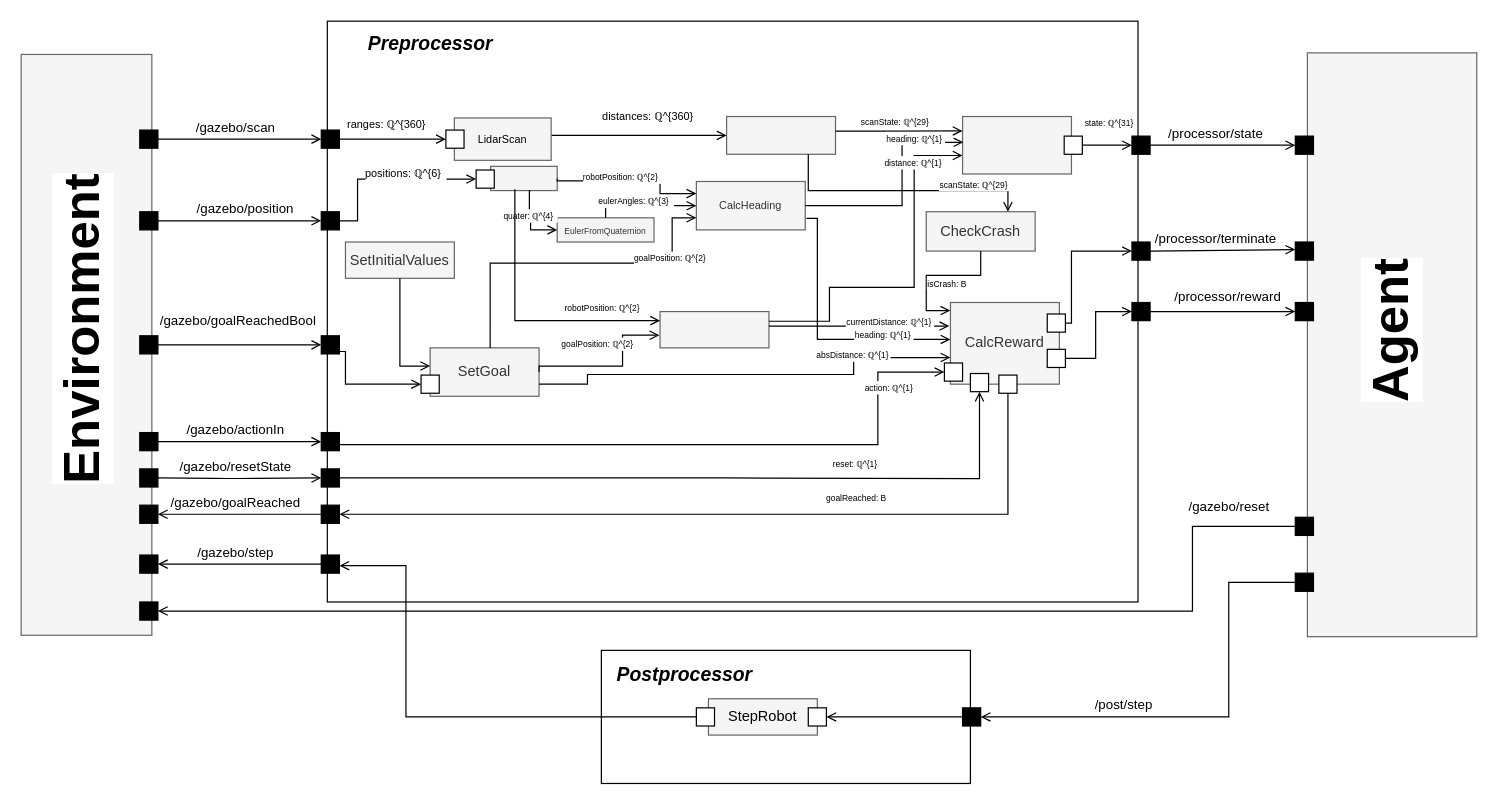
The diagram is 1498 pixels wide and 808 high, and some of its shapes have lost their labels. The shapes that lost their labels are listed below. From the top down, each one's centre as x and y in pixels, then its label:
the point at 780,134: ScanDiscretization
the point at 1016,144: CombineState
the point at 523,178: GetQuater
the point at 714,329: CalcDistance
